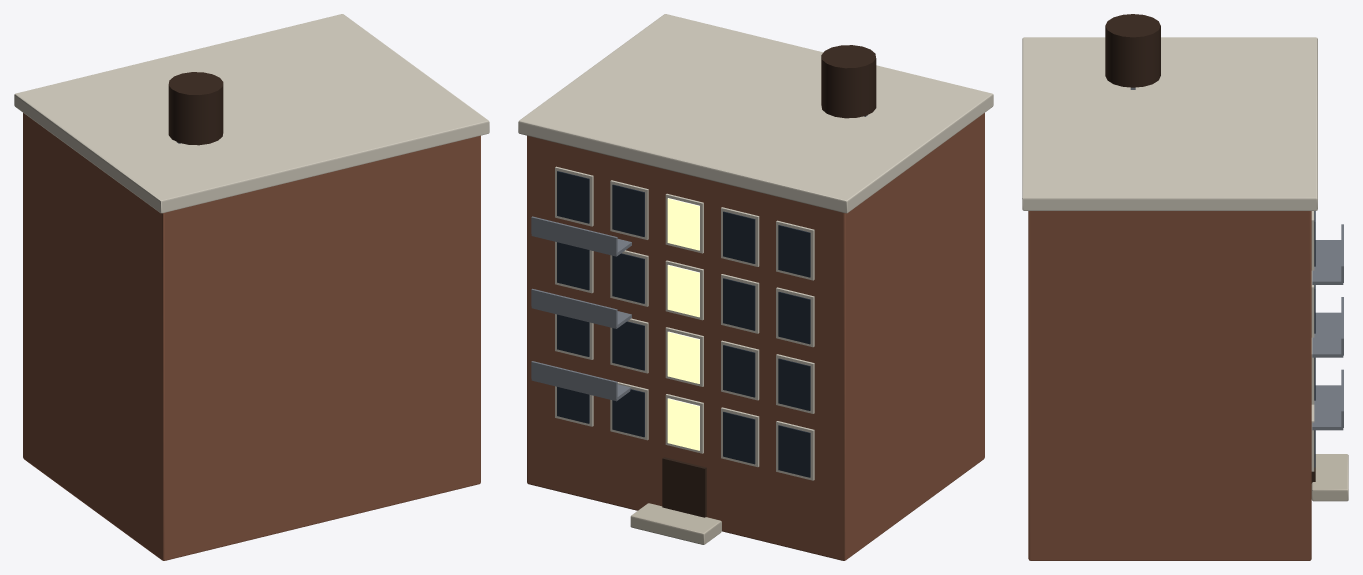
File: tenement.glb
3 views of the same model, side by side, from view 1: azimuth 30°, elevation 25°; view 2: azimuth 150°, elevation 25°; view 3: azimuth 270°, elevation 25° (orthographic).
Parts seen in each view (by area): view 1: part-paint, part-trim, part-door; view 2: part-paint, part-trim, part-glass, part-door, part-glass-lit, part-metal, part-stone; view 3: part-paint, part-trim, part-metal, part-door, part-stone.
Boxes of the visible parts, <box> form: part-paint: <box>23,113,480,560</box>; part-trim: <box>14,14,489,213</box>; part-door: <box>168,72,223,145</box>; part-paint: <box>527,113,984,560</box>; part-trim: <box>518,14,993,480</box>; part-glass: <box>557,171,810,477</box>; part-door: <box>662,45,876,517</box>; part-glass-lit: <box>667,198,699,450</box>; part-metal: <box>531,115,867,401</box>; part-stone: <box>630,503,721,544</box>; part-paint: <box>1028,211,1311,560</box>; part-trim: <box>1022,37,1317,471</box>; part-metal: <box>1130,87,1343,430</box>; part-door: <box>1105,14,1315,483</box>; part-stone: <box>1311,454,1348,501</box>.
Size of the model in its own units: 62 by 75.5 by 53.
